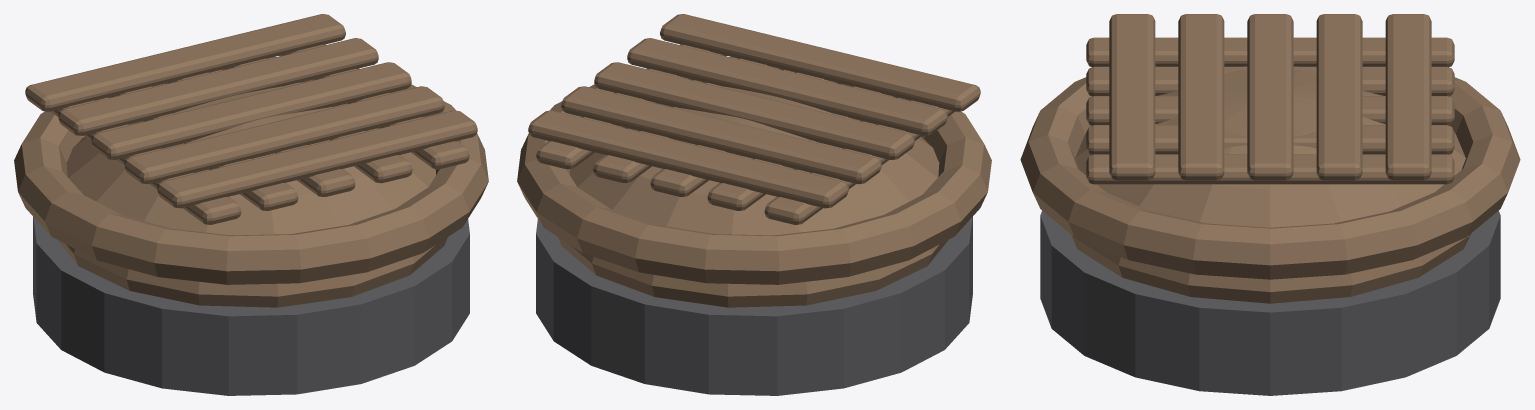
3 views of the same model, side by side, from view 1: azimuth 30°, elevation 25°; view 2: azimuth 150°, elevation 25°; view 3: azimuth 270°, elevation 25° (orthographic). The views are drawn at different scales.
Parts seen in each view (by area): view 1: platedPie; view 2: platedPie; view 3: platedPie.
Part boxes in pixels (x1,y1,x2,y2): platedPie: (14,14,488,395); platedPie: (517,14,991,395); platedPie: (1020,14,1520,395).
Bounding box in the file's own units: 0.326 × 0.158 × 0.326.
